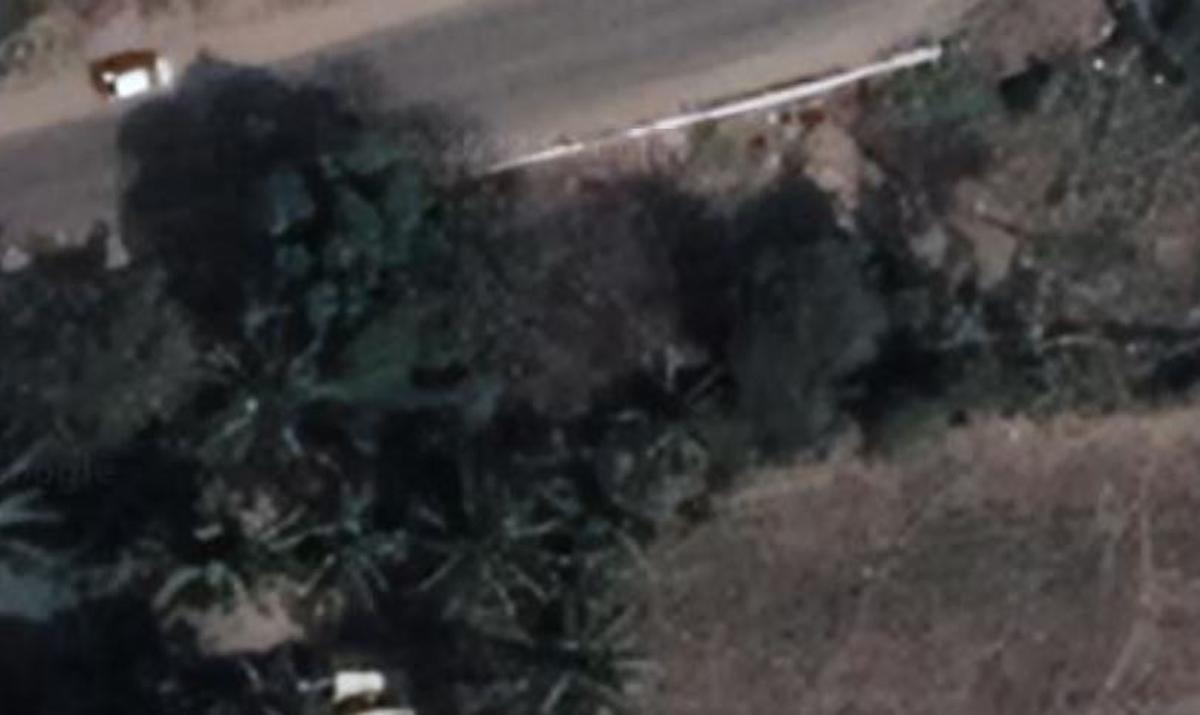coconut: (532, 439, 679, 586), (204, 327, 346, 478), (504, 583, 664, 715), (409, 469, 554, 601), (300, 482, 411, 617), (162, 507, 295, 618), (628, 367, 735, 470)
